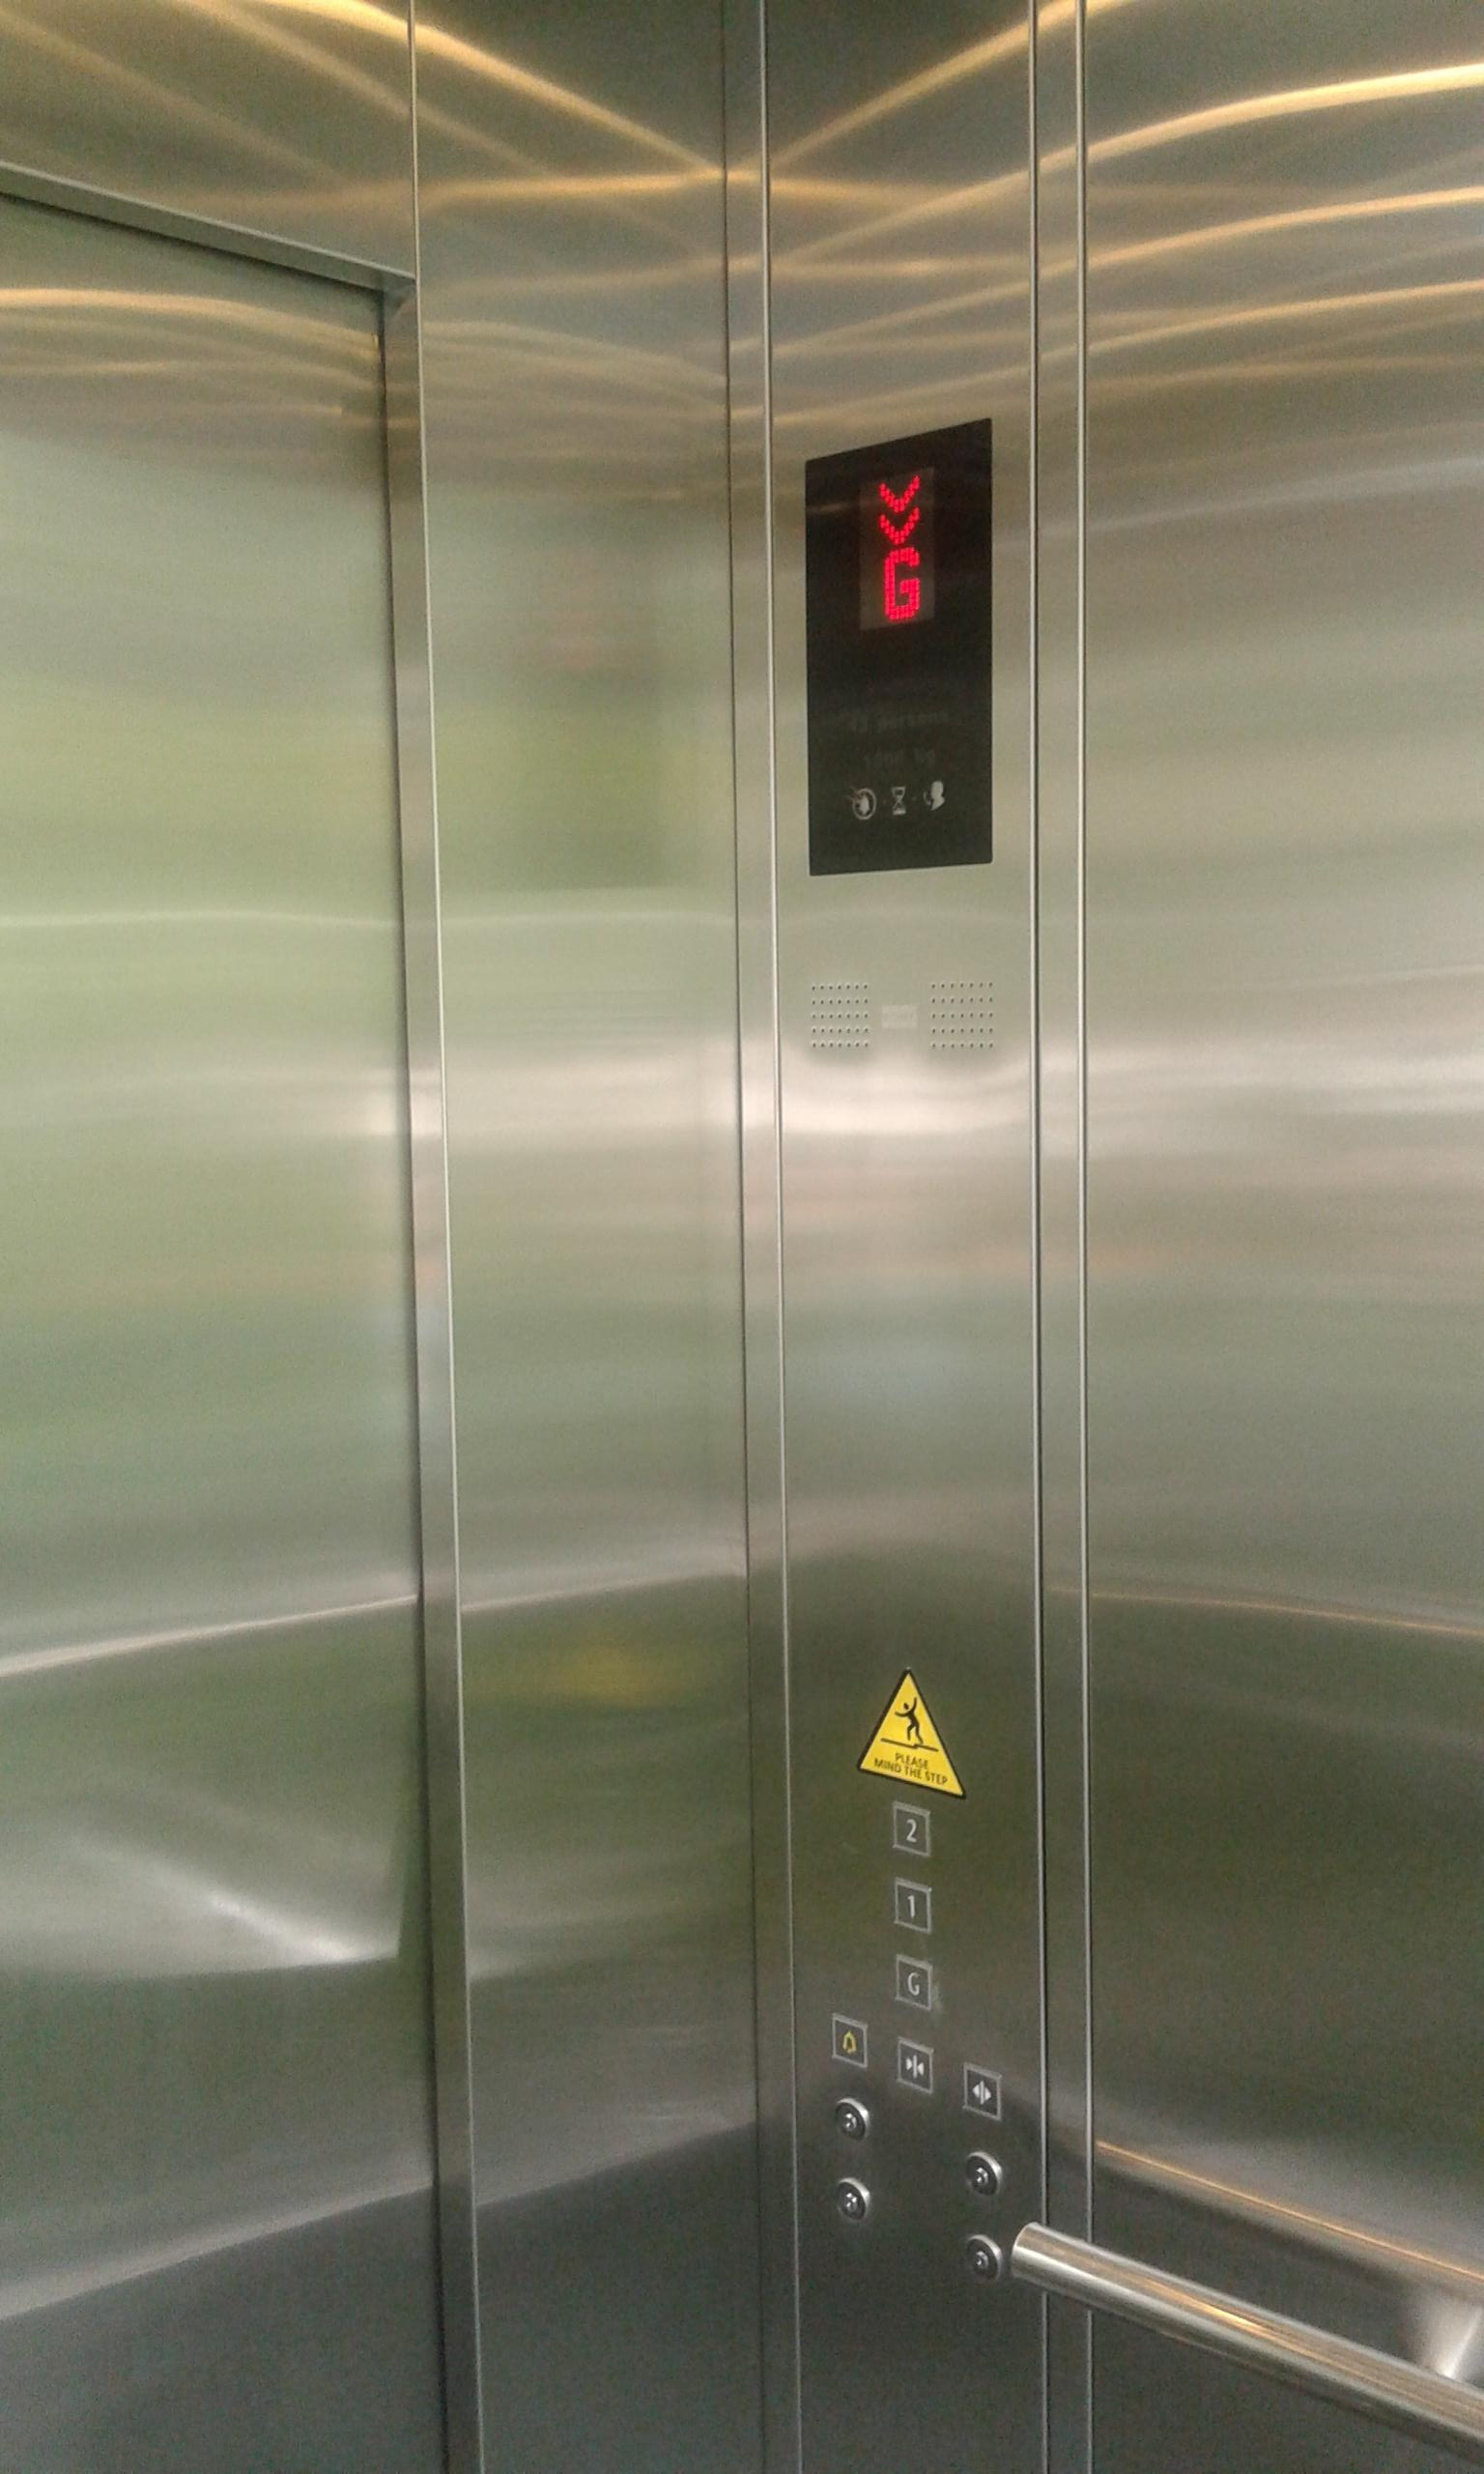1: (889, 1871, 935, 1940)
2: (889, 1795, 935, 1861)
G: (892, 1947, 936, 2015)
alarm: (829, 2007, 871, 2071)
close: (890, 2030, 935, 2098)
keyhole: (830, 2094, 873, 2147), (830, 2172, 873, 2225), (961, 2147, 1003, 2200), (961, 2232, 1003, 2285)
led: (799, 401, 1002, 889)
open: (959, 2057, 1003, 2126)
